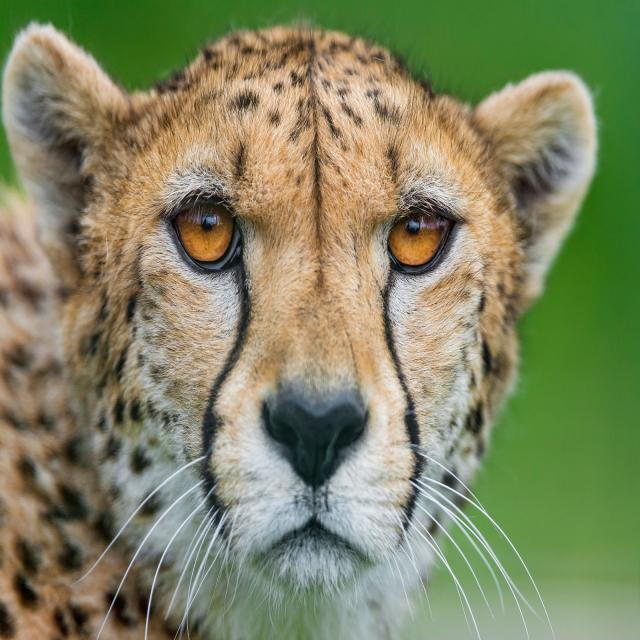Cheetah: (0, 6, 601, 640)
